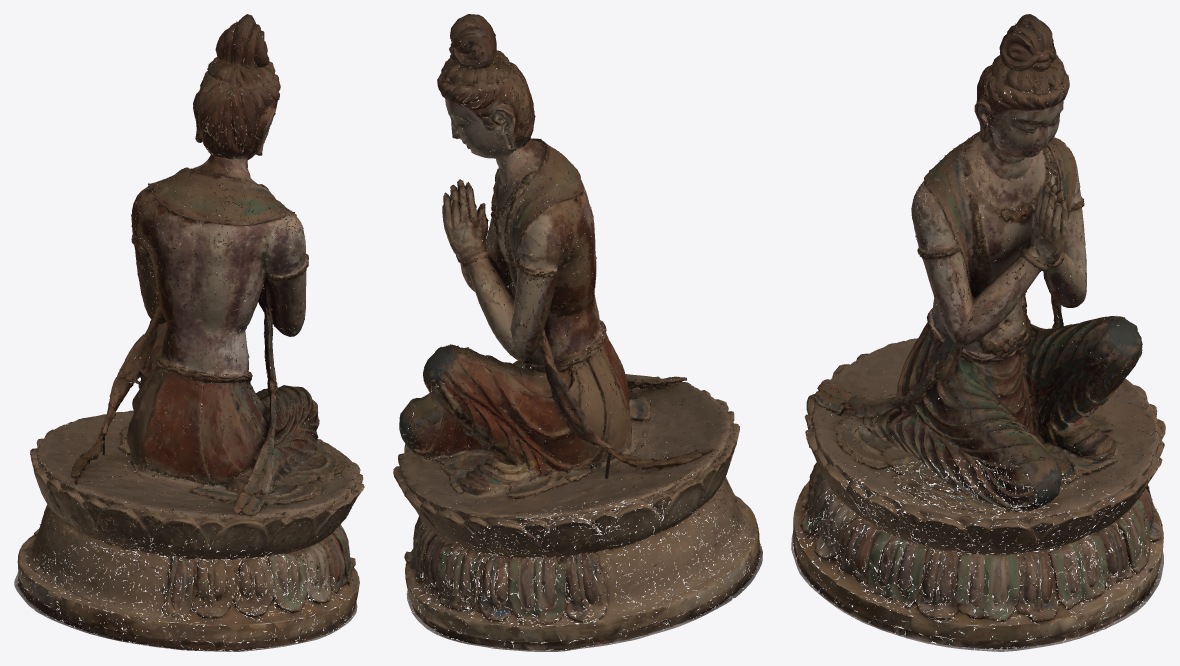
File: bodhi.glb
The picture shows the model from 3 angles, left to right: view 1: azimuth 30°, elevation 25°; view 2: azimuth 150°, elevation 25°; view 3: azimuth 270°, elevation 25°; orthographic projection. The views are drawn at different scales.
Visible parts, largest first — view 1: Object_3, Object_9, Object_8, Object_4, Object_7, Object_5, Object_10, Object_11, Object_2, Object_6; view 2: Object_7, Object_4, Object_6, Object_2, Object_3, Object_5, Object_9, Object_11, Object_8, Object_10, Object_12; view 3: Object_6, Object_8, Object_5, Object_2, Object_3, Object_4, Object_9, Object_10, Object_11, Object_7, Object_12.
Part boxes in pixels (x1=…): Object_3: x1=150, y1=14, x2=308, y2=372; Object_9: x1=42, y1=19, x2=308, y2=651; Object_8: x1=67, y1=426, x2=360, y2=651; Object_4: x1=102, y1=163, x2=300, y2=483; Object_7: x1=14, y1=423, x2=364, y2=614; Object_5: x1=99, y1=306, x2=319, y2=509; Object_10: x1=18, y1=53, x2=363, y2=609; Object_11: x1=17, y1=411, x2=359, y2=650; Object_2: x1=131, y1=158, x2=307, y2=359; Object_6: x1=37, y1=395, x2=342, y2=578; Object_7: x1=433, y1=415, x2=751, y2=651; Object_4: x1=423, y1=140, x2=631, y2=476; Object_6: x1=398, y1=410, x2=659, y2=649; Object_2: x1=444, y1=133, x2=596, y2=361; Object_3: x1=437, y1=14, x2=604, y2=340; Object_5: x1=393, y1=282, x2=630, y2=554; Object_9: x1=440, y1=19, x2=762, y2=591; Object_11: x1=411, y1=376, x2=759, y2=651; Object_8: x1=436, y1=374, x2=741, y2=541; Object_10: x1=424, y1=57, x2=732, y2=616; Object_12: x1=398, y1=276, x2=575, y2=645; Object_6: x1=928, y1=363, x2=1165, y2=650; Object_8: x1=791, y1=338, x2=986, y2=646; Object_5: x1=854, y1=299, x2=1164, y2=586; Object_2: x1=921, y1=137, x2=1086, y2=346; Object_3: x1=913, y1=14, x2=1070, y2=346; Object_4: x1=910, y1=134, x2=1142, y2=421; Object_9: x1=794, y1=18, x2=1085, y2=513; Object_10: x1=806, y1=55, x2=1136, y2=549; Object_11: x1=793, y1=338, x2=1163, y2=651; Object_7: x1=846, y1=342, x2=1161, y2=595; Object_12: x1=918, y1=337, x2=1161, y2=646.
Size of the model in its own units: 0.6988 by 1.22 by 0.6858.
Materials: 1 (1 with a texture image).
